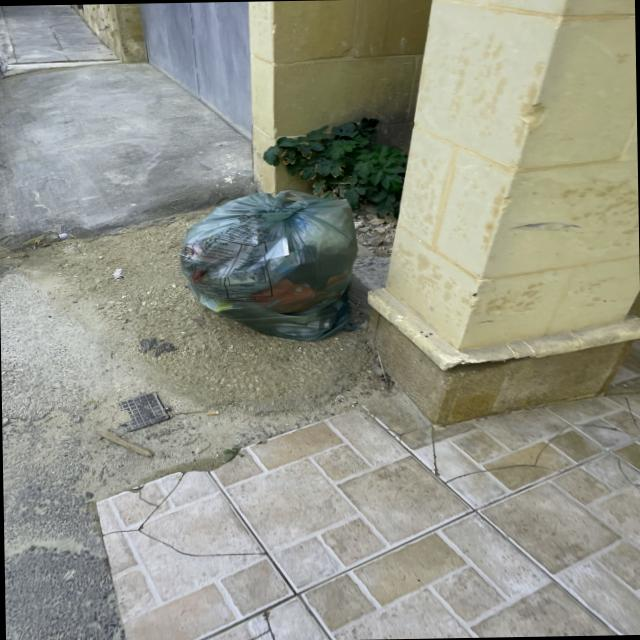grey_bag: (174, 186, 368, 347)
